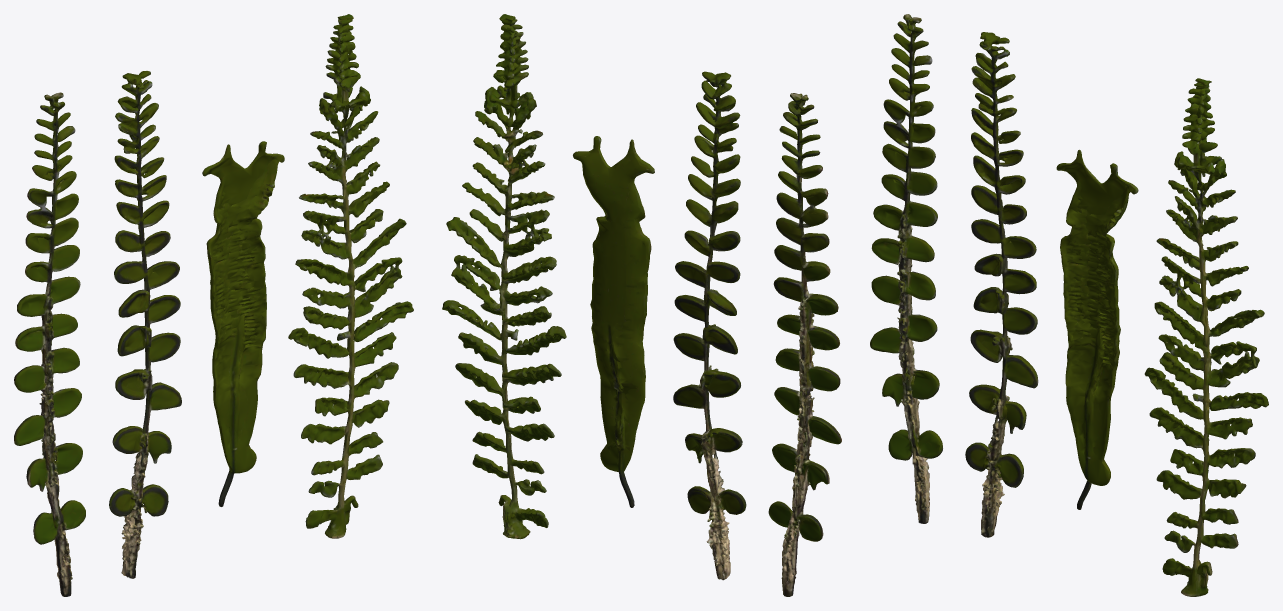
File: fern-curl-v12.glb
3 views of the same model, side by side, from view 1: azimuth 30°, elevation 25°; view 2: azimuth 150°, elevation 25°; view 3: azimuth 330°, elevation 25° (orthographic).
Visible parts, largest first — view 1: geometry_0; view 2: geometry_0; view 3: geometry_0.
Part boxes in pixels (box(x1,y1,x2,y2)): geometry_0: box(14, 14, 413, 596); geometry_0: box(442, 14, 841, 596); geometry_0: box(870, 14, 1268, 596).
Size of the model in its own units: 0.5994 by 0.743 by 0.0466.
1 material, 1 textured.
